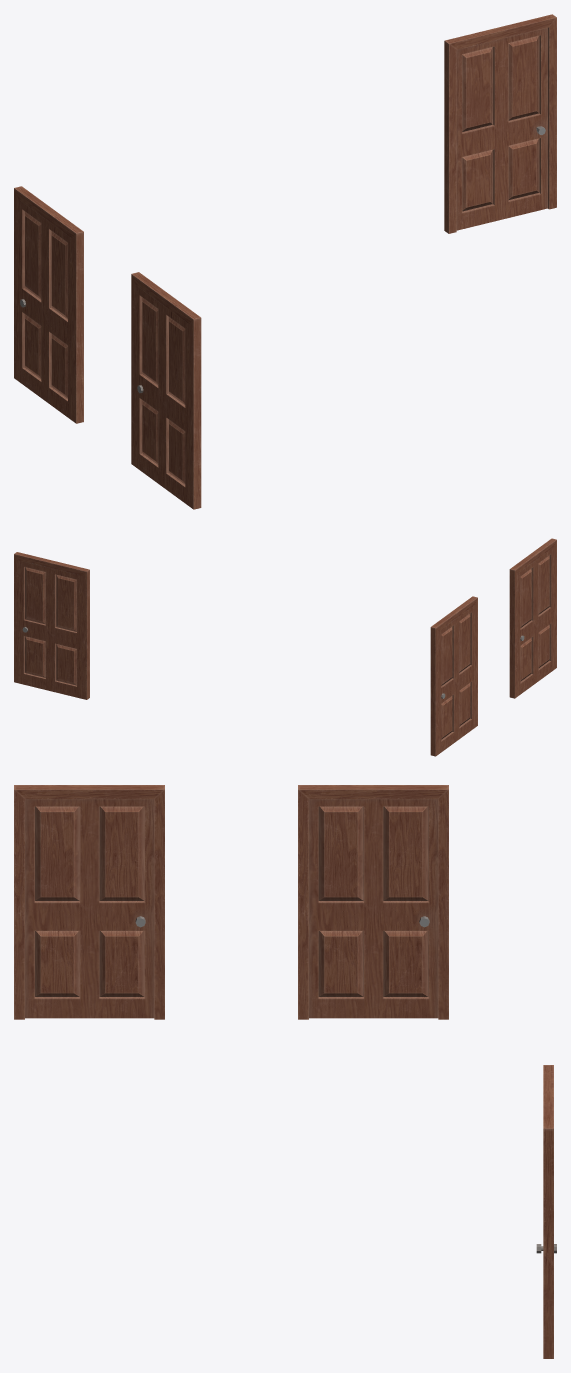
File: Indoor.fbx
3 renders of one model, top to bottom at view 1: azimuth 30°, elevation 25°; view 2: azimuth 150°, elevation 25°; view 3: azimuth 270°, elevation 25°, orthographic. The views are drawn at different scales.
Parts seen in each view (by area): view 1: door1, doord2, doord, door_1, doord_2, doord_0; view 2: door1, doord, doord2, door_1, doord_0, doord_2; view 3: doord, doord2, doord_0, doord_2, door_1.
Part boxes in pixels (left/top/right/bottom): door1: left=456, top=28, right=547, bottom=230; doord2: left=135, top=285, right=189, bottom=505; doord: left=18, top=199, right=71, bottom=420; door_1: left=444, top=14, right=556, bottom=233; doord_2: left=131, top=272, right=201, bottom=509; doord_0: left=14, top=186, right=83, bottom=423; door1: left=19, top=561, right=81, bottom=698; doord: left=438, top=605, right=474, bottom=753; doord2: left=518, top=547, right=553, bottom=695; door_1: left=14, top=552, right=89, bottom=699; doord_0: left=430, top=596, right=477, bottom=756; doord_2: left=509, top=538, right=556, bottom=698; doord: left=309, top=799, right=438, bottom=1018; doord2: left=25, top=799, right=154, bottom=1018; doord_0: left=298, top=785, right=448, bottom=1019; doord_2: left=14, top=785, right=164, bottom=1019; door_1: left=543, top=1065, right=553, bottom=1358.
Bounding box in the file's own units: 811 × 252 × 539.
